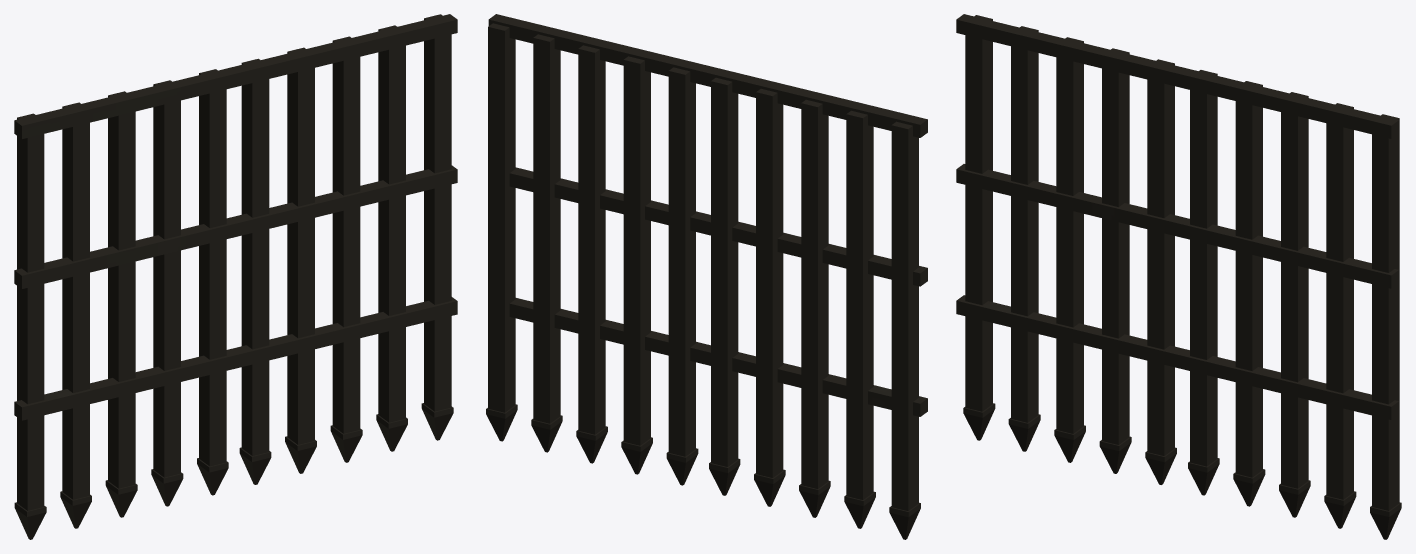
Rendered from Gate_Variant_2.gltf.
The picture shows the model from 3 angles, left to right: view 1: azimuth 30°, elevation 25°; view 2: azimuth 150°, elevation 25°; view 3: azimuth 330°, elevation 25°; orthographic projection.
Parts seen in each view (by area): view 1: Gate_Variant_2.001; view 2: Gate_Variant_2.001; view 3: Gate_Variant_2.001.
Boxes of the visible parts, <box> form: Gate_Variant_2.001: <box>14,14,457,539</box>; Gate_Variant_2.001: <box>486,14,927,539</box>; Gate_Variant_2.001: <box>956,14,1401,539</box>.
Size of the model in its own units: 7.06 by 6.53 by 0.3741.
1 material, 1 textured.
